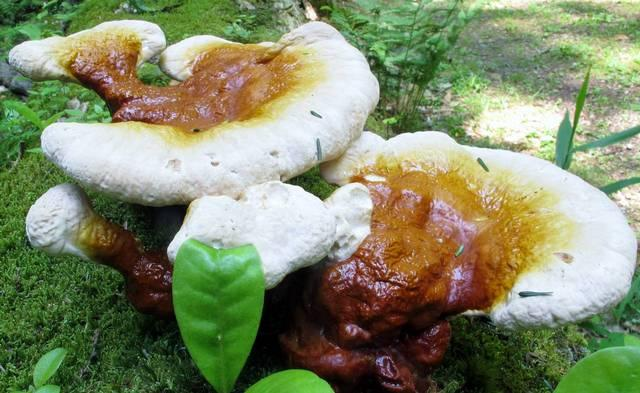poisonous_mushroom: (281, 128, 637, 389), (7, 17, 381, 206)
